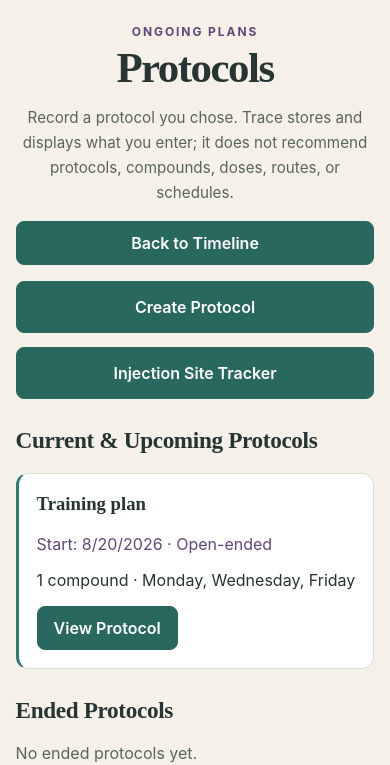
Test: opens the tracker from Protocol detail with that existing Protocol preselected
The width and height of the screenshot is (390, 765).
Click the button "View Protocol" at (107, 628), box [37, 606, 178, 650]
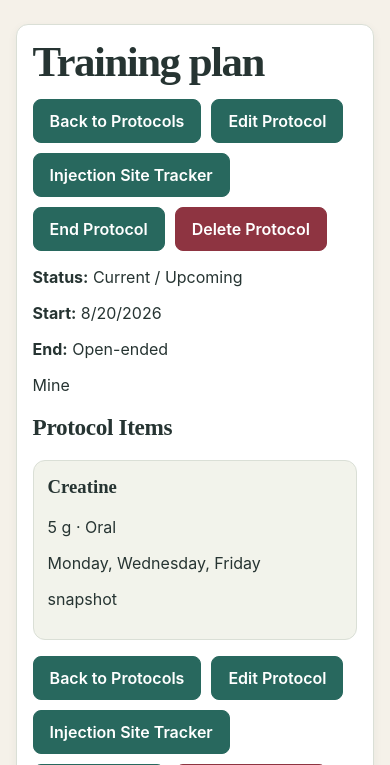
Click the 1st button "Injection Site Tracker" at (131, 175), box [33, 153, 230, 197]
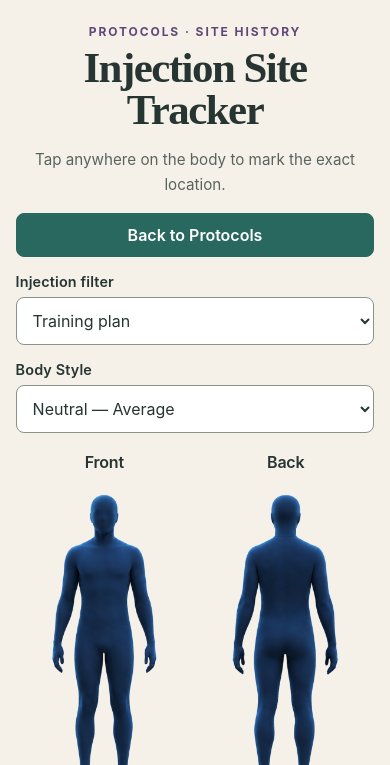
expect the dropdown labelled "Injection filter" shows "Training plan": met, box [16, 297, 374, 345]
Click the button "Back to Protocols" at (195, 235), box [16, 213, 374, 257]
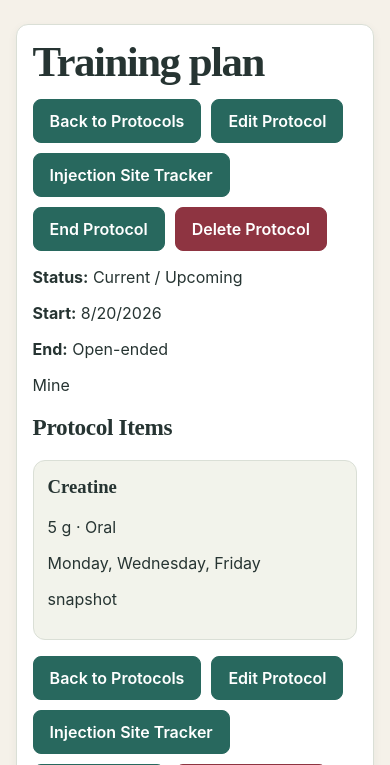
expect the element with test id "protocol-detail" shows "Training plan": met, box [33, 38, 264, 85]
